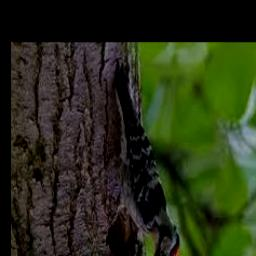Woodpecker: (107, 62, 179, 256)
